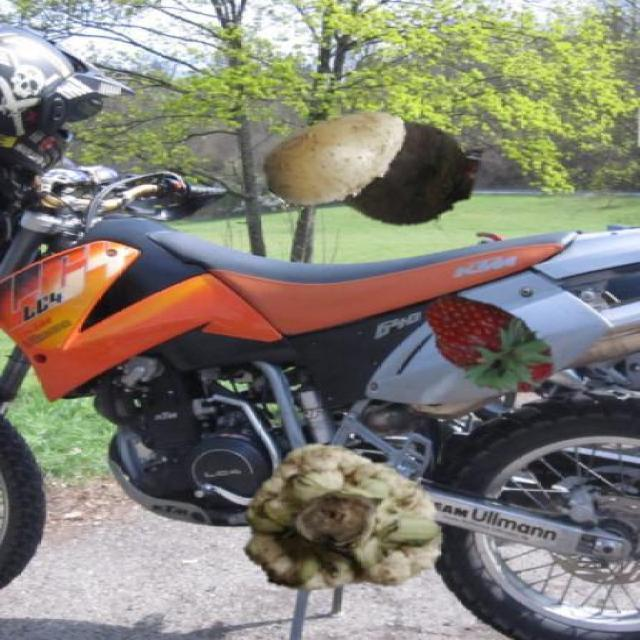Strawberry: (406, 286, 565, 406)
